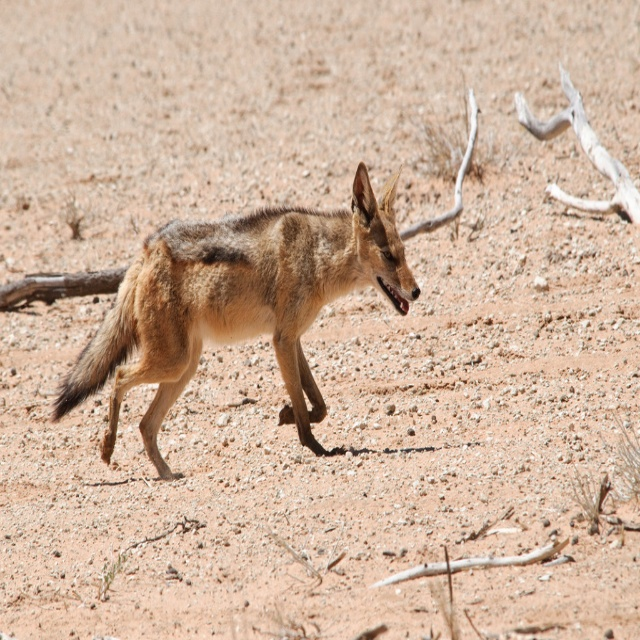Fox: (50, 160, 422, 483)
